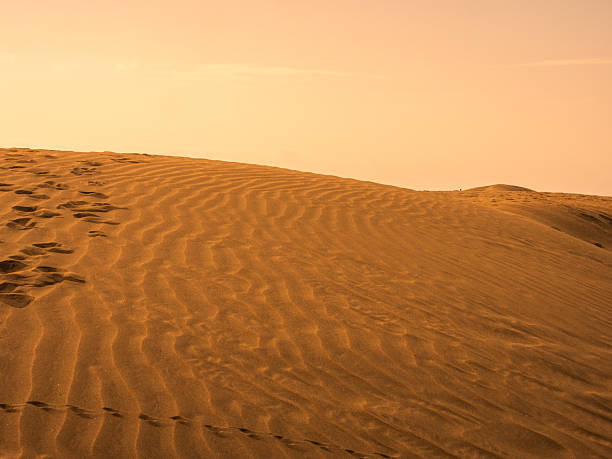animal_footprint: (0, 400, 398, 458), (0, 242, 85, 307), (74, 213, 113, 223), (6, 217, 35, 229), (38, 180, 68, 189), (70, 167, 96, 175), (79, 191, 108, 198), (35, 210, 59, 217), (88, 230, 106, 237), (13, 206, 36, 211), (15, 190, 31, 193), (0, 182, 11, 186)
